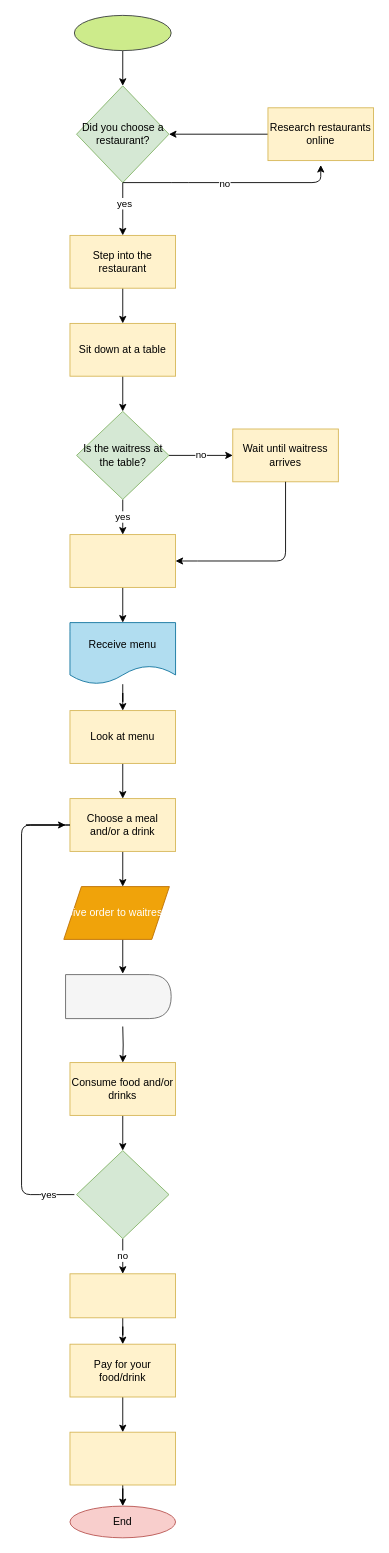
Image size: 389x1553. Some labels were removed from this diagram. The shapes that lost their labels are listed below. From the top down, each one's centre as x and y in pixels, then its label:
point 122,33: Start
point 122,560: Ask for the menu
point 118,996: Wait for meal and/or drinks to arrive
point 122,1194: Are you still hungry/thirsty?
point 122,1295: Ask for bill
point 122,1458: Step out of restaurant and go home
